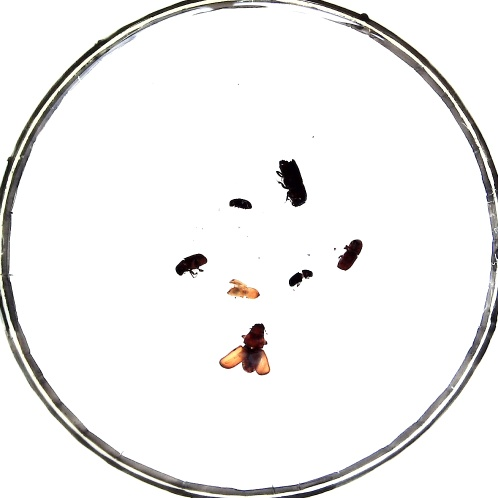acuminatus: (288, 269, 312, 287), (229, 198, 252, 209)
armandi: (175, 253, 207, 276)
boerner: (279, 158, 307, 207)
coleoptera: (226, 279, 260, 299)
leconte: (241, 323, 264, 372)
linnaeus: (336, 239, 362, 271)
